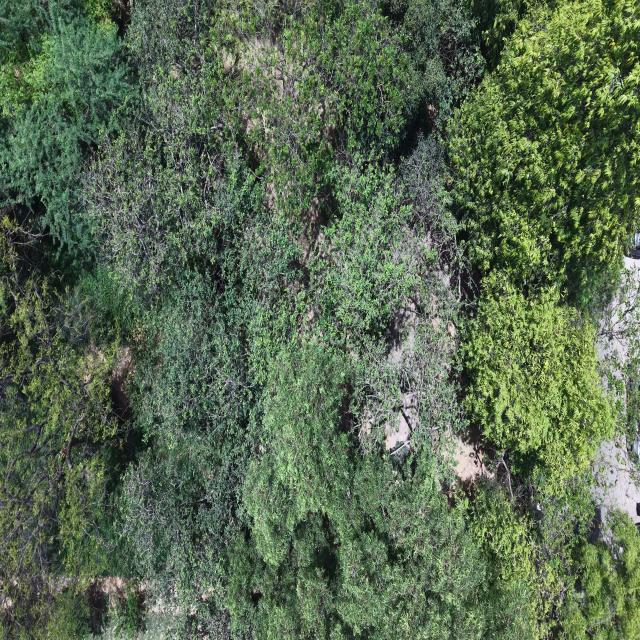VEGETATION_TREE: (0, 0, 639, 639), (227, 343, 528, 638), (449, 0, 639, 295), (0, 216, 128, 626), (0, 0, 133, 260), (465, 272, 614, 474), (562, 518, 639, 638)
